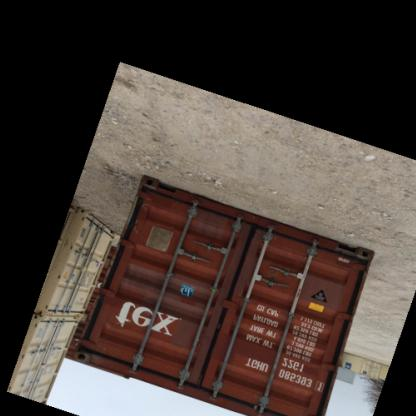Damage: (188, 210, 230, 241), (125, 218, 140, 236), (136, 196, 154, 211)
